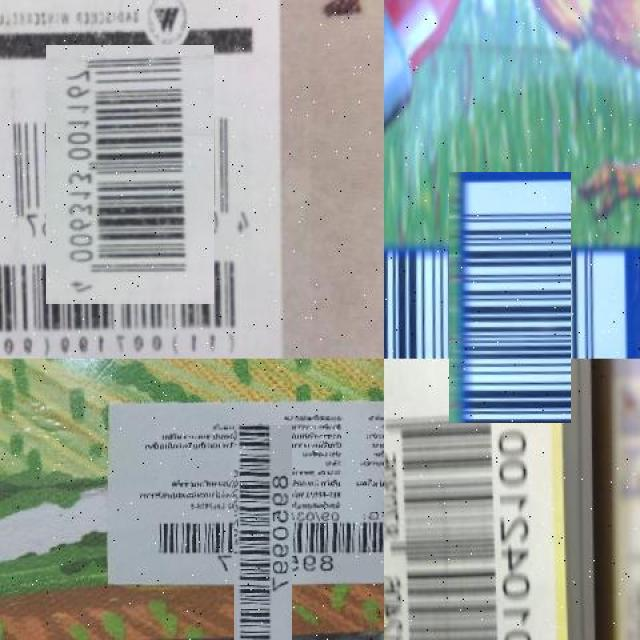Barcode: (23, 68, 237, 282), (384, 391, 546, 640), (416, 204, 603, 391), (187, 471, 338, 622)
